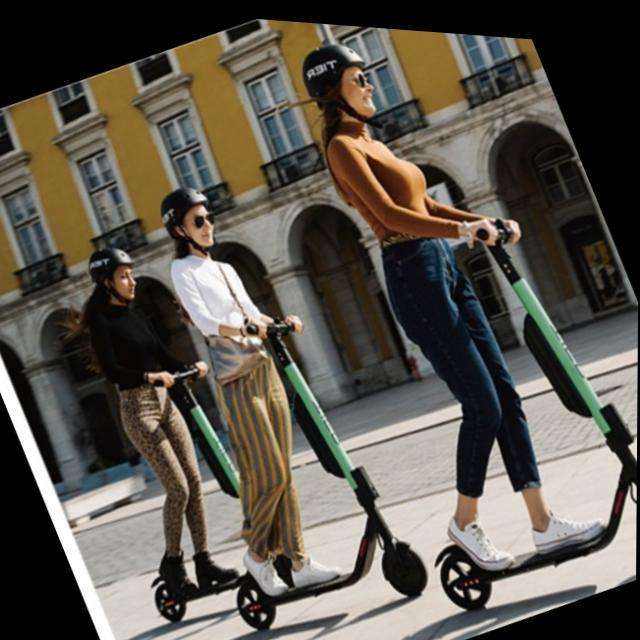Helmet: (293, 34, 387, 132), (149, 182, 219, 257), (82, 242, 144, 309)
